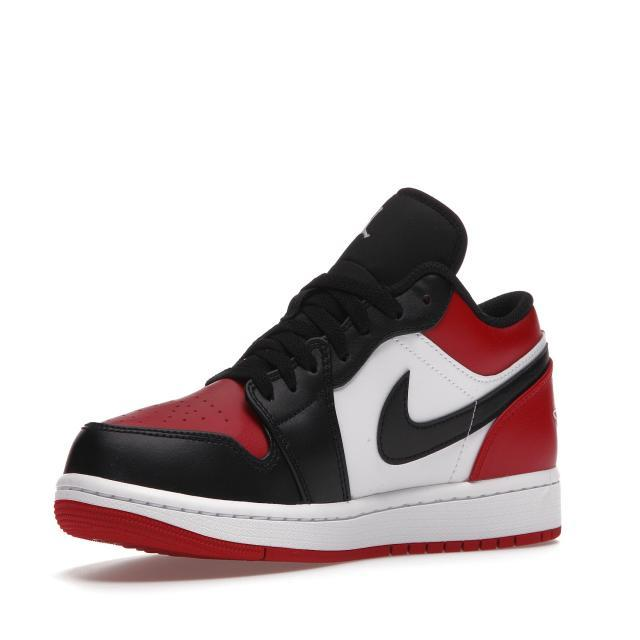J1_InsoleChar: (51, 185, 564, 566)
J1_StitchPattern: (52, 467, 563, 560), (206, 256, 464, 399), (373, 328, 551, 467), (241, 374, 314, 504), (80, 419, 260, 459), (395, 332, 479, 401), (384, 526, 562, 558), (157, 390, 233, 428)
